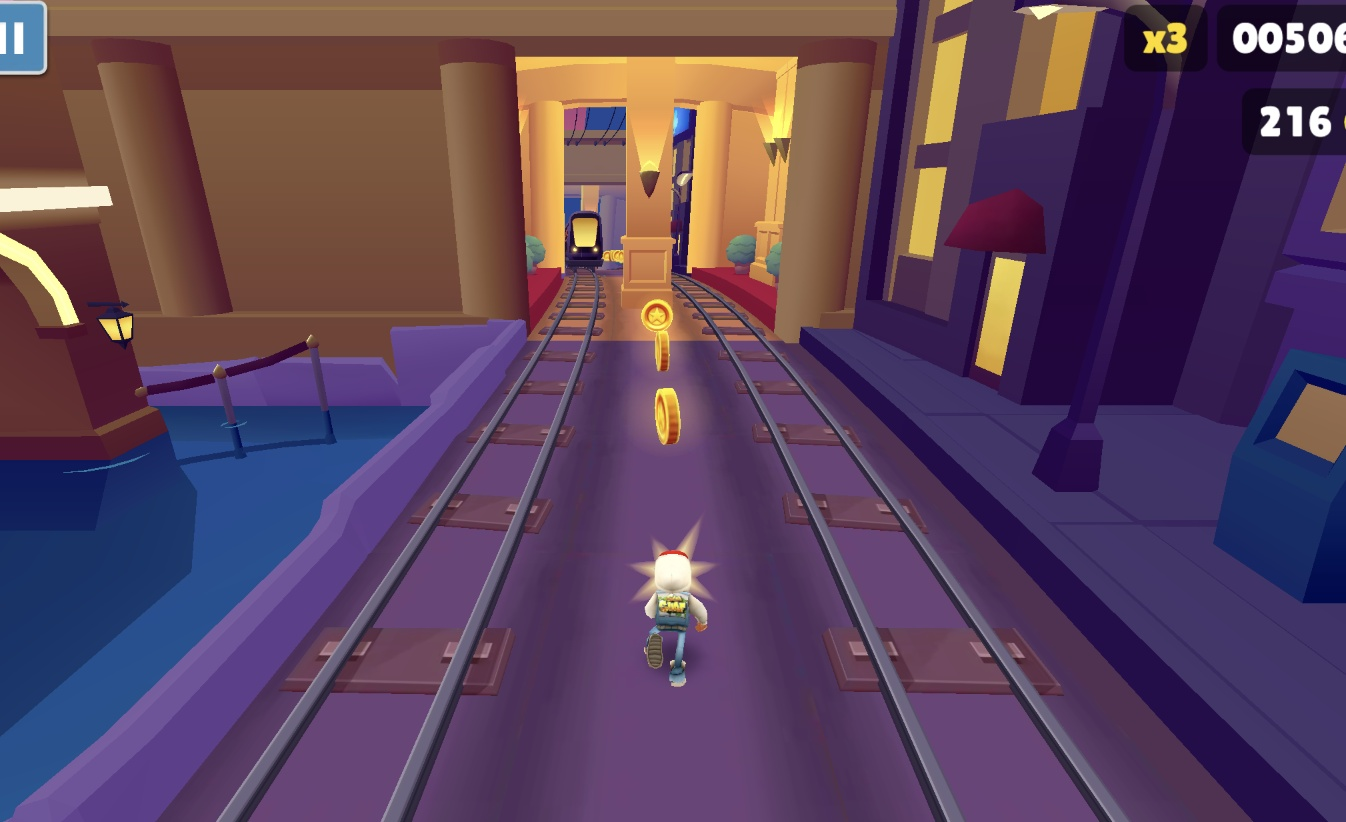pillar: (620, 62, 676, 300), (578, 178, 604, 268)
train: (562, 212, 606, 272)
